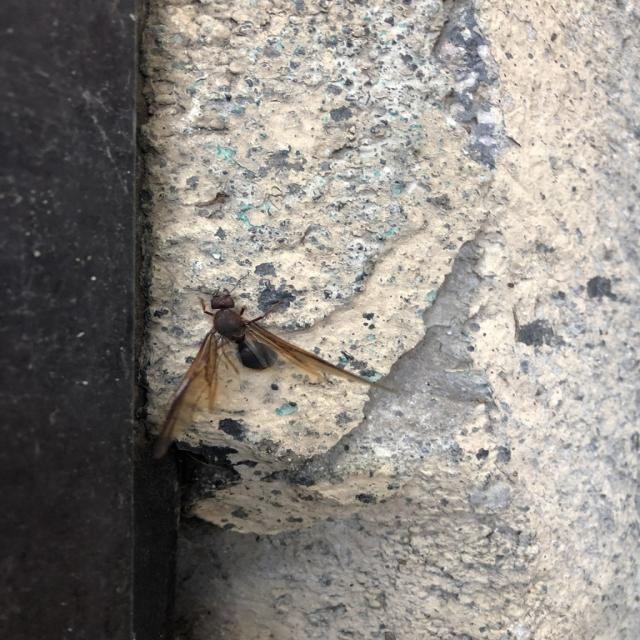Alive-Female-Alate: (153, 270, 401, 459)
